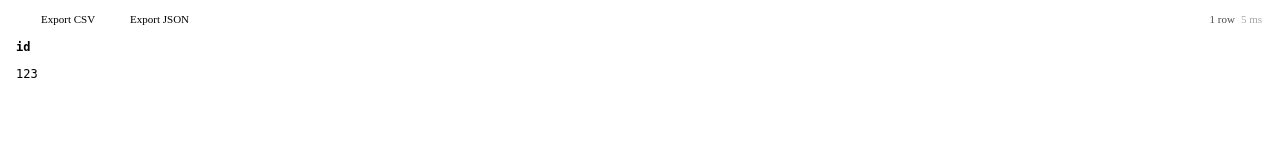
Test: TableGrid query mode › opens the cell editor on double click
Double-click the cell at (27, 74), box [8, 61, 108, 87]
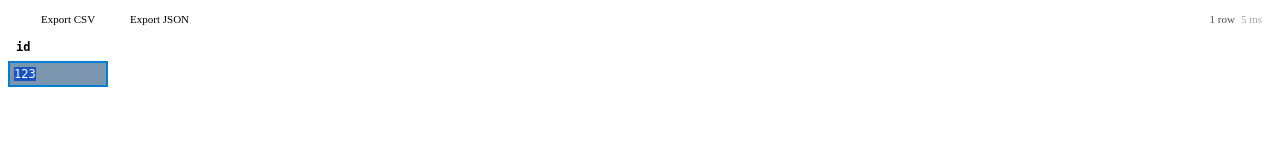
Result: the field named "Cell value" is shown at [8, 61, 108, 87]
